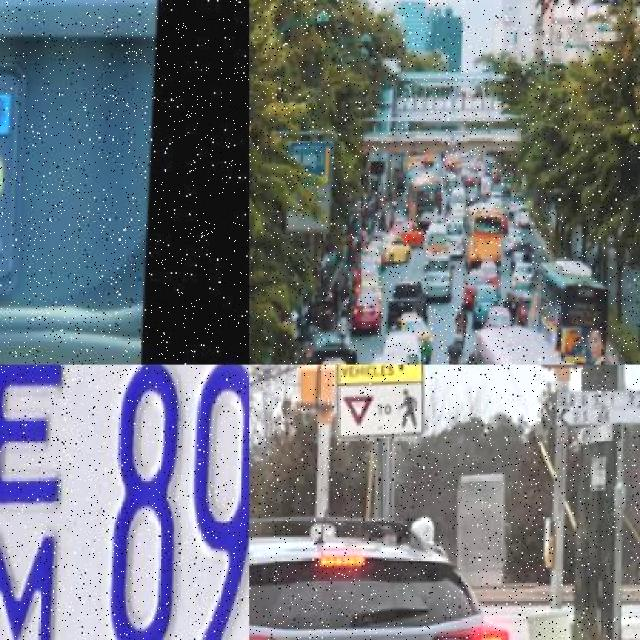licenseplate: (0, 364, 249, 640), (0, 45, 146, 303), (426, 336, 432, 346), (369, 309, 377, 316), (490, 302, 496, 308)
